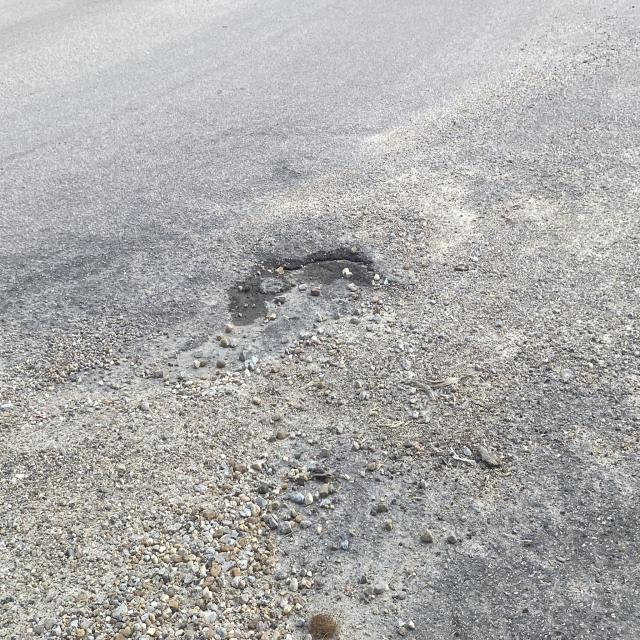Pothole: (242, 228, 417, 335)
